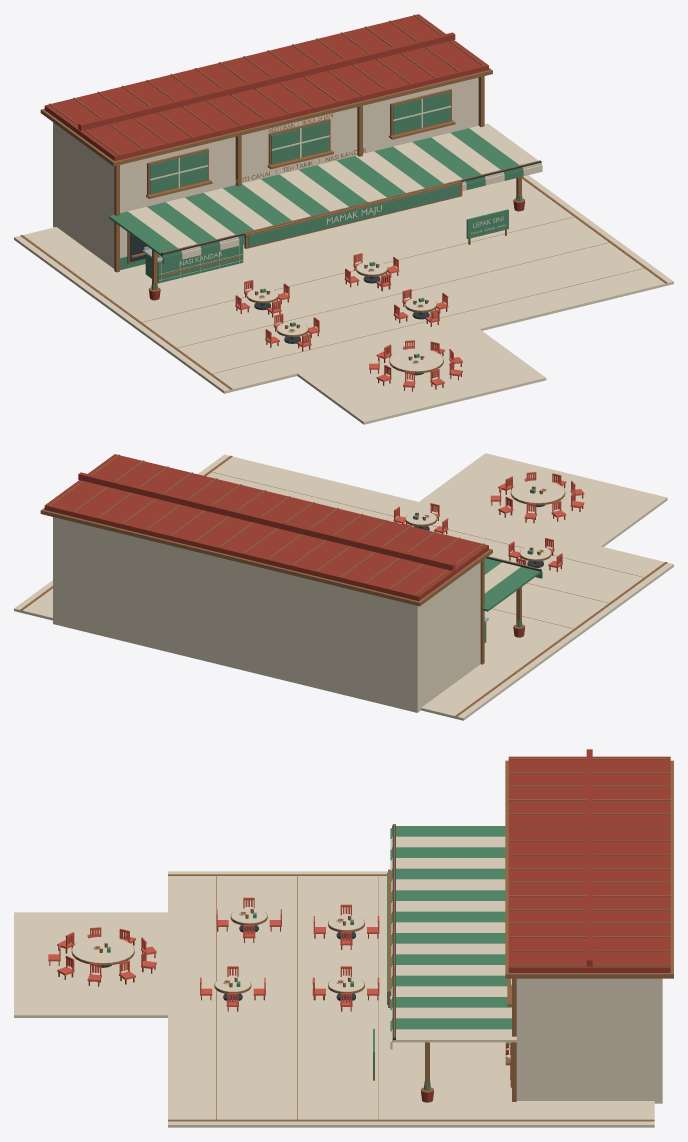
File: LM_ENV_MamakMaju.glb
3 views of the same model, one above another, from view 1: azimuth 30°, elevation 25°; view 2: azimuth 150°, elevation 25°; view 3: azimuth 270°, elevation 25° (orthographic). The views are drawn at different scales.
Visible parts, largest first — view 1: LM_ENV_MamakMaju; view 2: LM_ENV_MamakMaju; view 3: LM_ENV_MamakMaju.
Boxes of the visible parts, x1=… form: LM_ENV_MamakMaju: x1=14, y1=14, x2=673, y2=424; LM_ENV_MamakMaju: x1=14, y1=453, x2=673, y2=720; LM_ENV_MamakMaju: x1=14, y1=749, x2=673, y2=1127.
Size of the model in its own units: 37 by 9.95 by 40.7.
